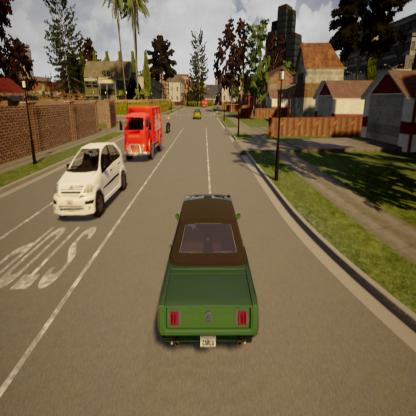Cars: (156, 185, 263, 358), (52, 137, 131, 222), (118, 99, 168, 161), (192, 107, 204, 122)
